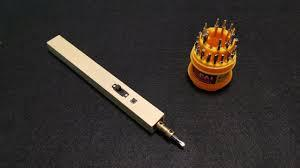pliers: (39, 17, 261, 155)
